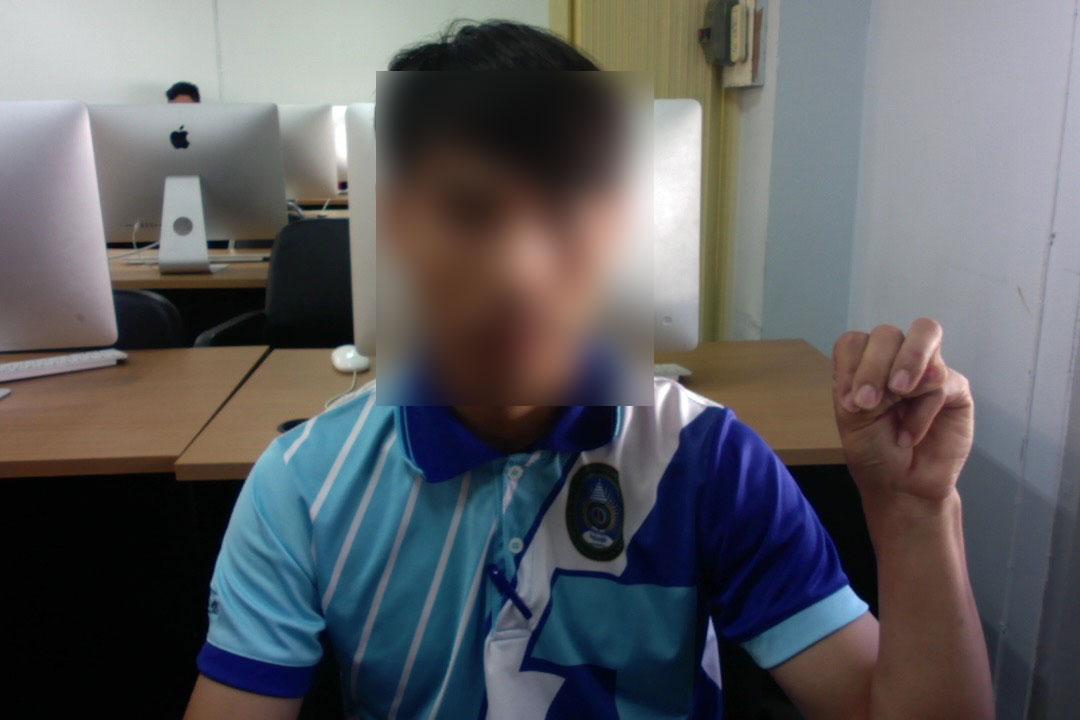mor: (832, 311, 978, 521)
